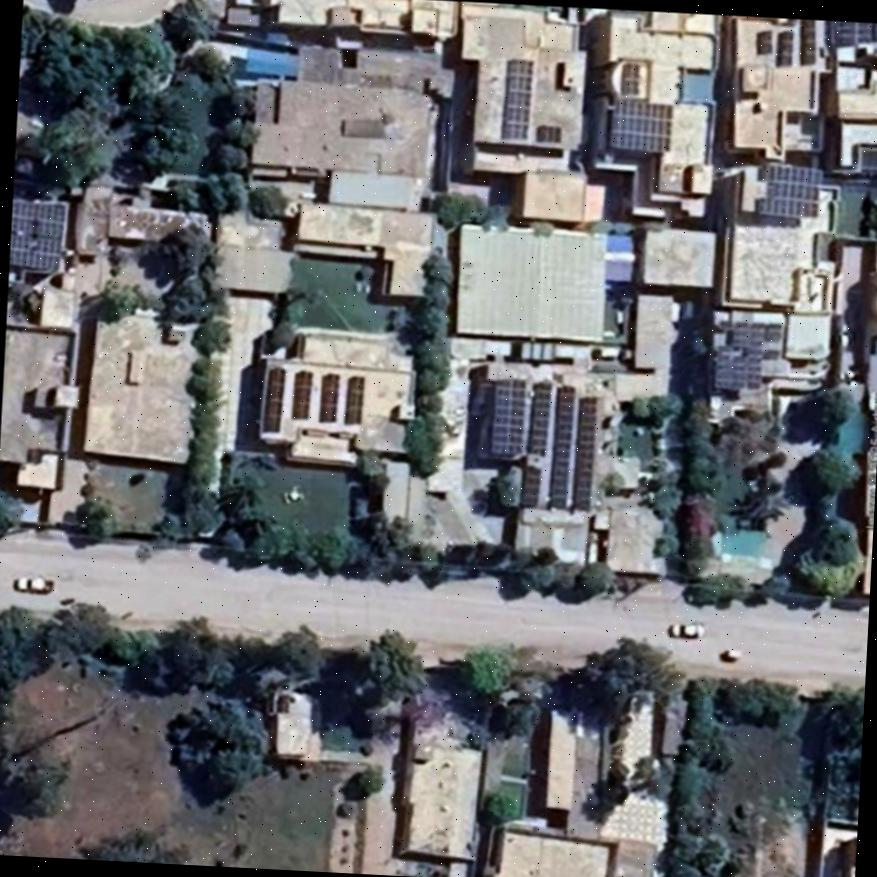Solarpanel: (9, 199, 64, 273), (757, 161, 822, 220), (611, 96, 670, 149), (716, 322, 764, 387), (549, 384, 574, 507), (573, 398, 594, 509), (499, 60, 528, 139), (492, 380, 522, 452), (529, 382, 550, 454), (263, 367, 285, 432), (829, 21, 877, 50), (343, 371, 362, 424), (518, 465, 539, 508), (320, 375, 337, 425), (293, 370, 310, 417)
